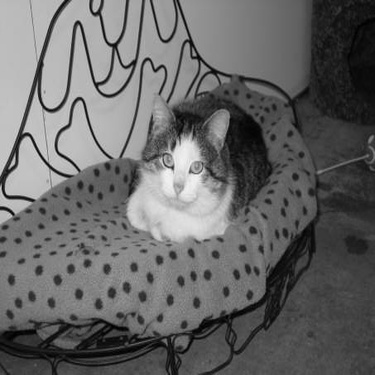cat: (124, 82, 269, 248)
